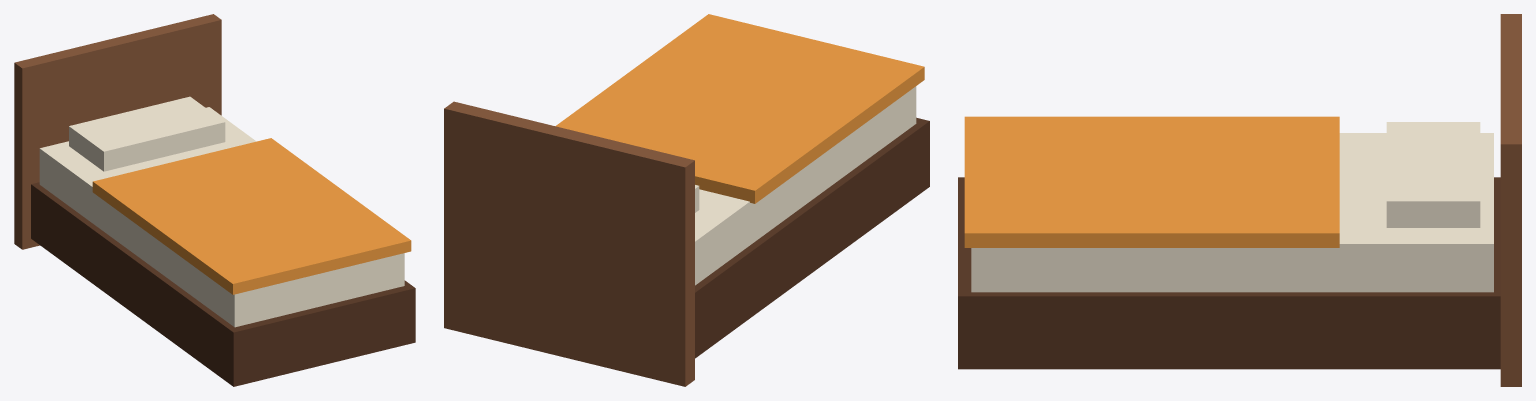
The model's file is bed.glb.
3 renders of one model, left to right at view 1: azimuth 30°, elevation 25°; view 2: azimuth 150°, elevation 25°; view 3: azimuth 270°, elevation 25°, orthographic. The views are drawn at different scales.
Visible parts, largest first — view 1: Box3, Box1, Box5, Box2, Box4; view 2: Box5, Box3, Box1, Box2; view 3: Box3, Box1, Box2, Box4, Box5.
Part boxes in pixels (x1=…): Box3: x1=92, y1=138, x2=411, y2=294; Box1: x1=31, y1=182, x2=415, y2=386; Box5: x1=14, y1=14, x2=221, y2=249; Box2: x1=39, y1=107, x2=404, y2=327; Box4: x1=69, y1=96, x2=225, y2=171; Box5: x1=444, y1=101, x2=694, y2=386; Box3: x1=555, y1=14, x2=924, y2=203; Box1: x1=695, y1=117, x2=929, y2=358; Box2: x1=695, y1=86, x2=916, y2=285; Box3: x1=964, y1=116, x2=1339, y2=247; Box1: x1=958, y1=177, x2=1500, y2=369; Box2: x1=971, y1=133, x2=1493, y2=292; Box4: x1=1386, y1=122, x2=1480, y2=227; Box5: x1=1500, y1=14, x2=1521, y2=386.
Bounding box in the file's own units: 1.15 × 1 × 2.1.
